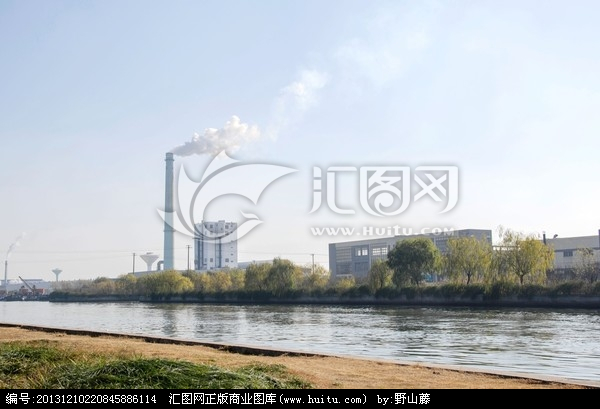dust: (160, 114, 264, 160)
